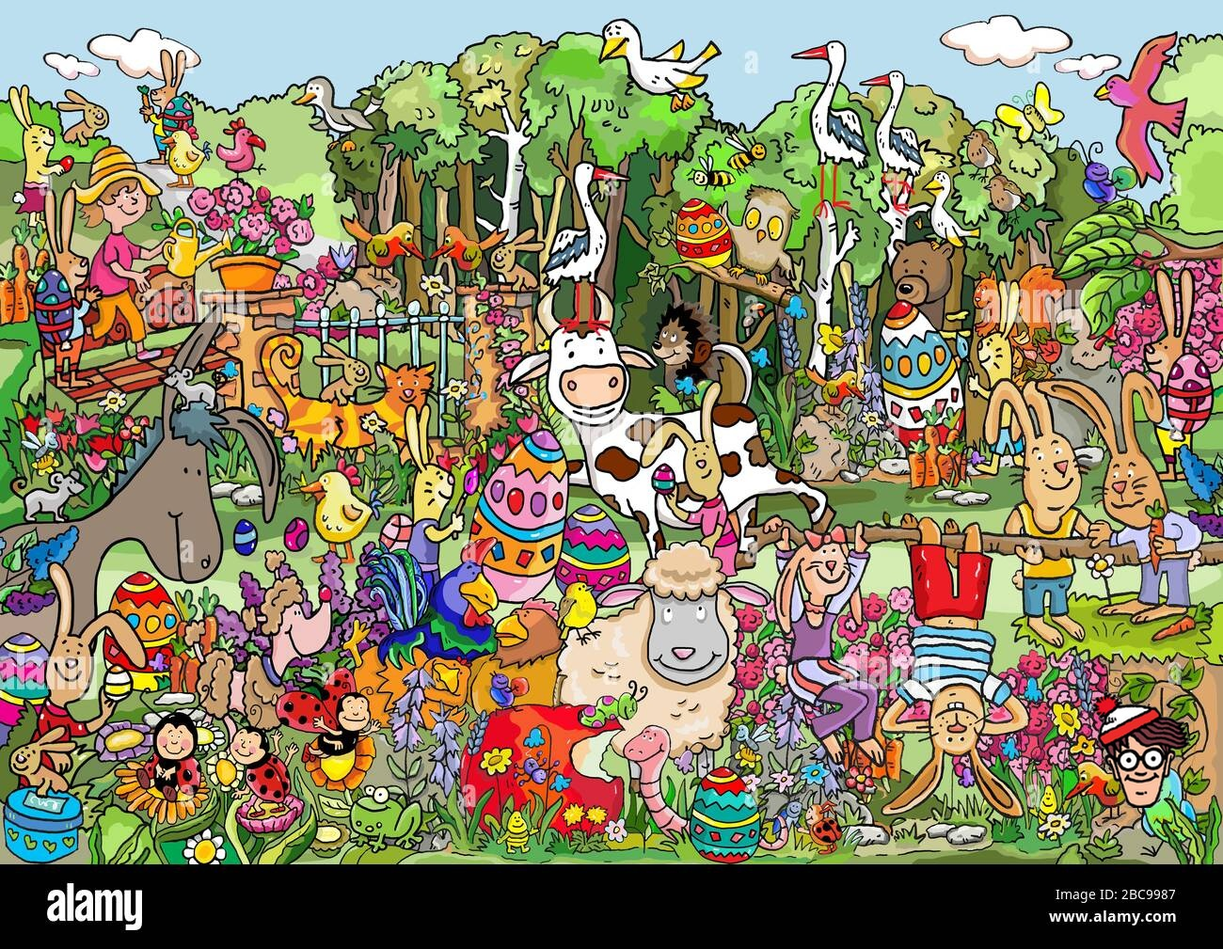waldo: (1092, 691, 1190, 808)
